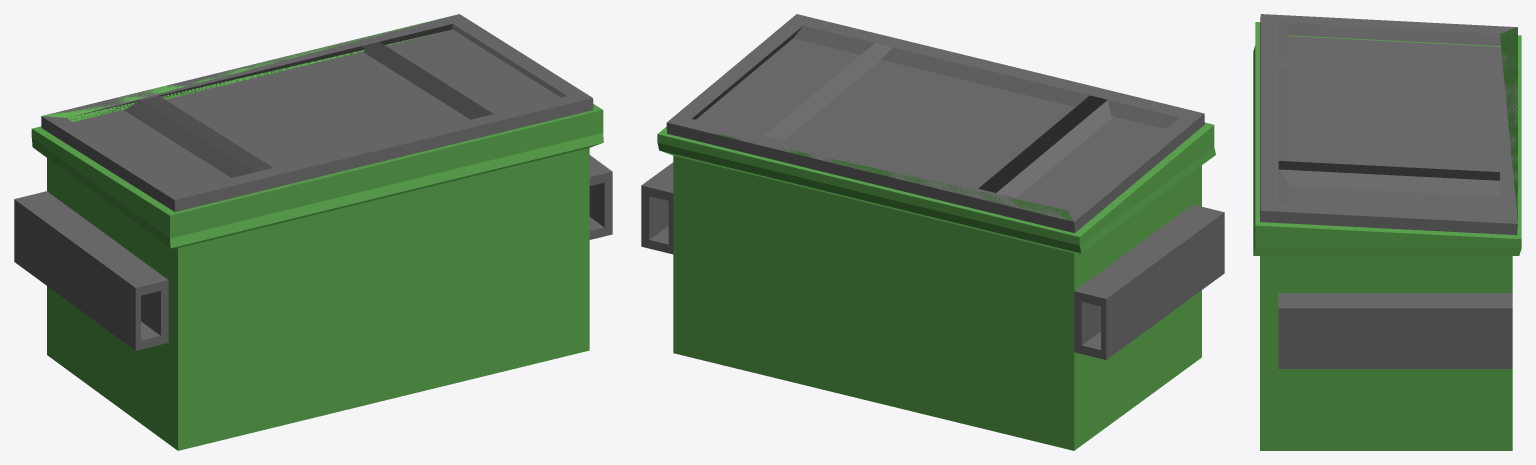
The model's file is Dumpster.fbx.
3 views of the same model, side by side, from view 1: azimuth 30°, elevation 25°; view 2: azimuth 150°, elevation 25°; view 3: azimuth 270°, elevation 25° (orthographic). The views are drawn at different scales.
Parts seen in each view (by area): view 1: Cube; view 2: Cube; view 3: Cube.
Boxes of the visible parts, x1,y1,x2,y2 form: Cube: (14,14,612,450); Cube: (641,14,1224,450); Cube: (1253,14,1521,450).
Bounding box in the file's own units: 862 × 434 × 436.
